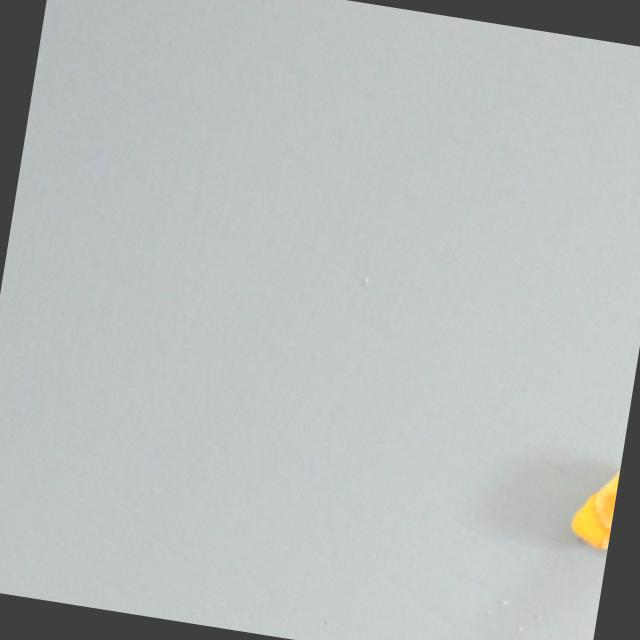dañado: (563, 441, 624, 554)
